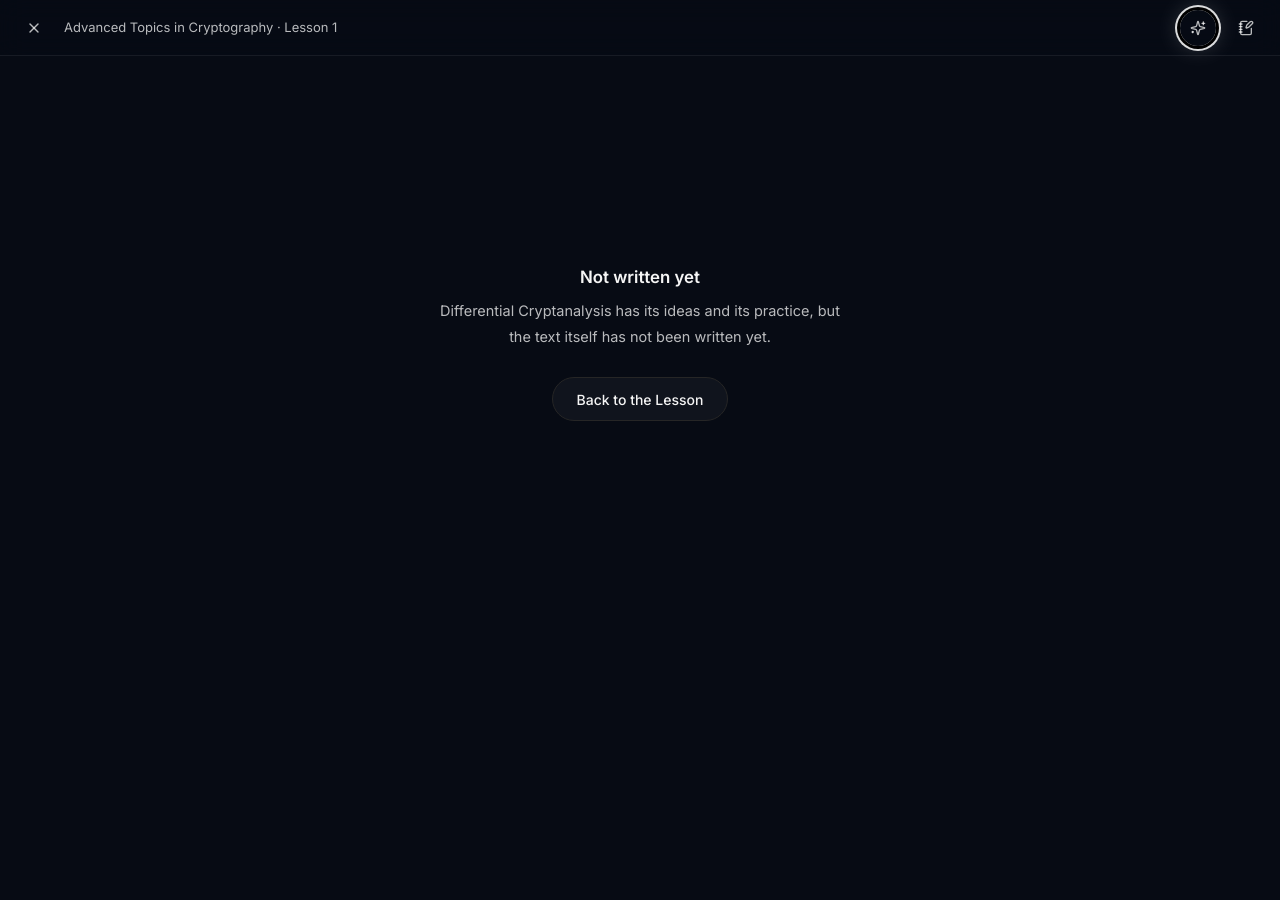
Test case: the tutor sits in the rail, on the reader › shows no marker in a Space that has it switched off
The width and height of the screenshot is (1280, 900).
Expected: the header is shown, [0,0,1279,56]
Step 1. Click the button named "Luna" → (1198, 28), box [1180,10,1216,46]
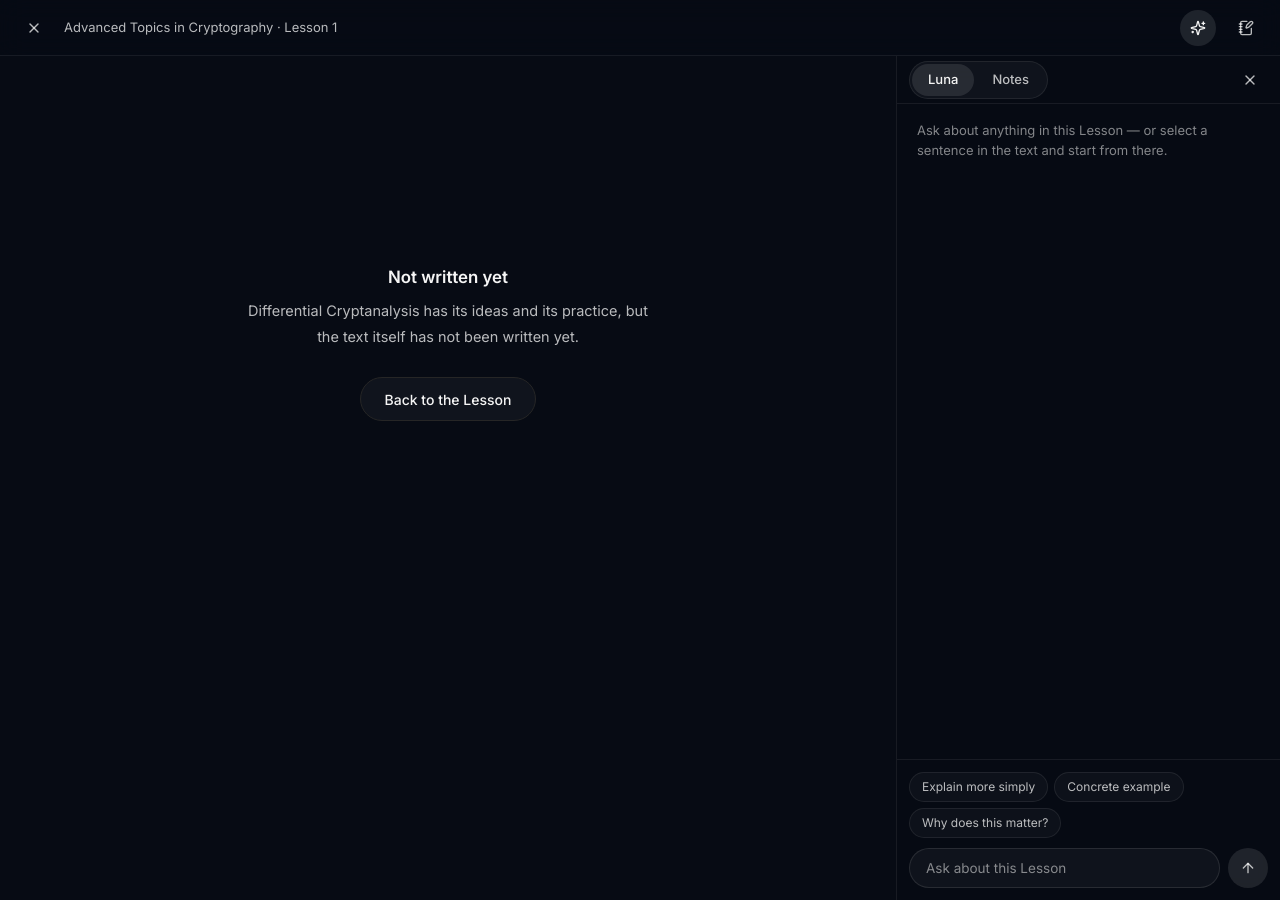
Result: the text "Ask about anything in this Lesson — or select a sentence in the text and start from there." is shown at [917,122,1208,158]
